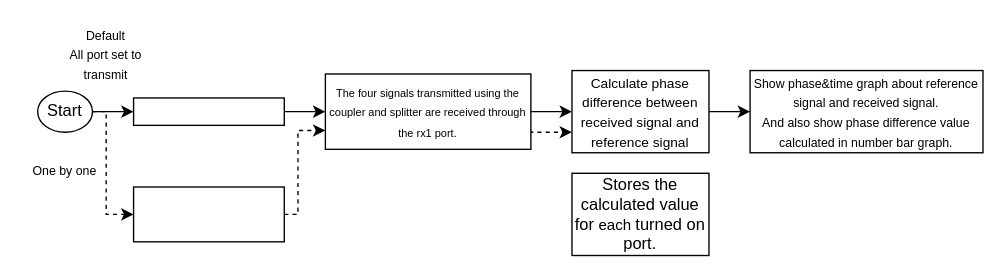
The diagram is 1007 pixels wide and 279 high, and some of its shapes have lost their labels. Each missing label, with the centre of its shape:
Transmit using 4-port: the point at 208,111
Turn on 4 tx ports sequentially one by one.: the point at 208,214
